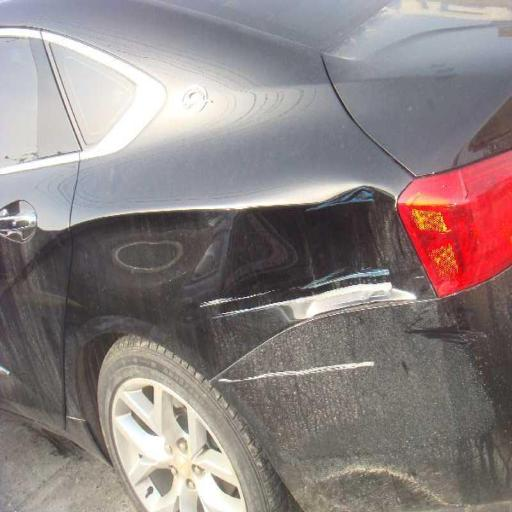scratch: (194, 246, 423, 417)
